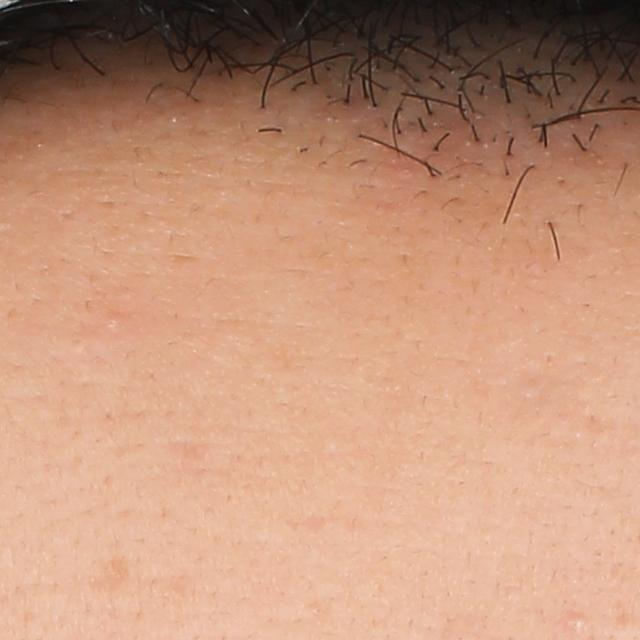atrophic_scar: (82, 552, 137, 593)
comedo: (101, 310, 134, 338), (565, 609, 593, 633)
